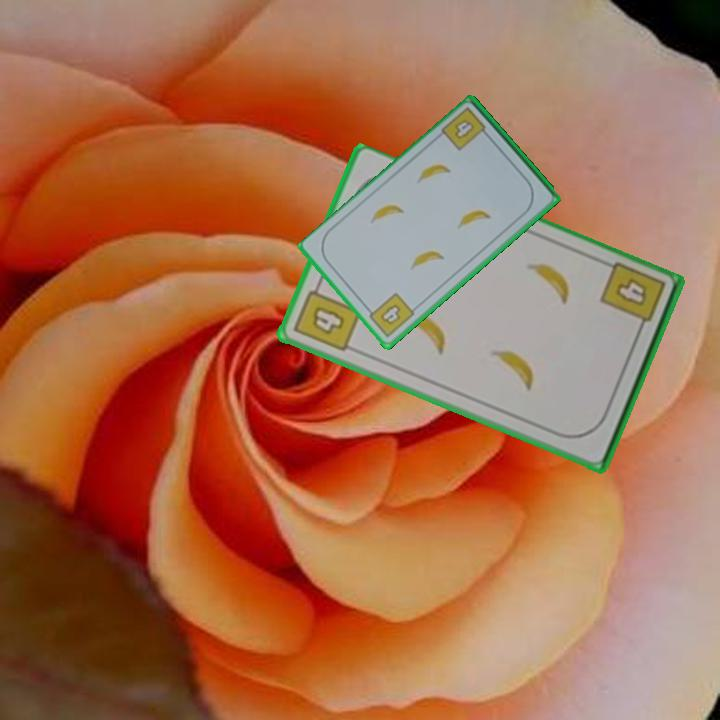4b: (290, 278, 364, 355), (597, 259, 668, 338), (363, 289, 418, 341), (438, 104, 493, 154)
